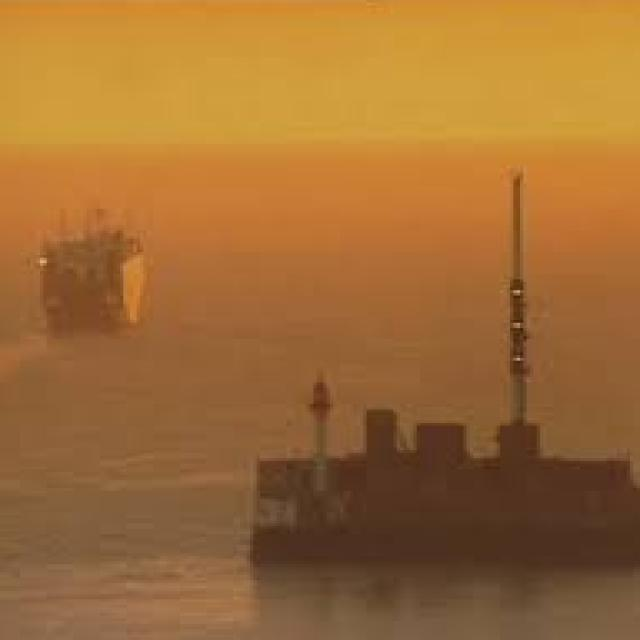cargoship: (226, 320, 640, 556), (27, 200, 144, 328)
